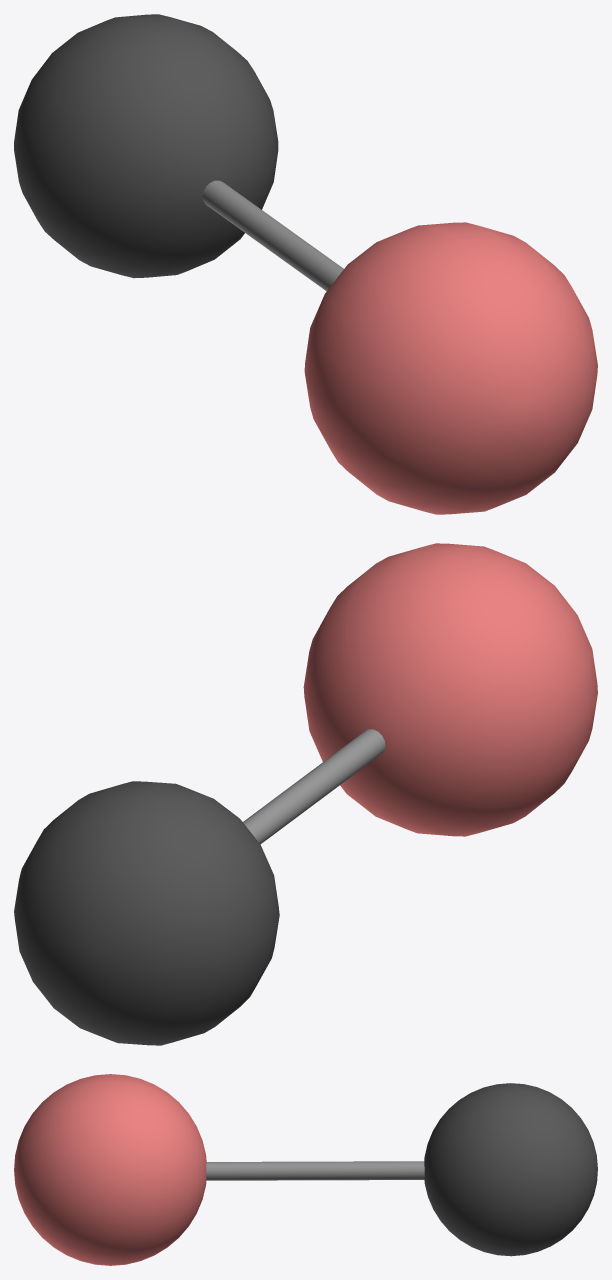
The picture shows the model from 3 angles, top to bottom: view 1: azimuth 30°, elevation 25°; view 2: azimuth 150°, elevation 25°; view 3: azimuth 270°, elevation 25°; orthographic projection. The views are drawn at different scales.
Parts seen in each view (by area): view 1: CF; view 2: CF; view 3: CF.
Boxes of the visible parts, x1,y1,x2,y2 form: CF: (14, 14, 597, 514); CF: (14, 543, 597, 1045); CF: (14, 1074, 597, 1265).
Size of the model in its own units: 1.85 by 1.85 by 5.58.
